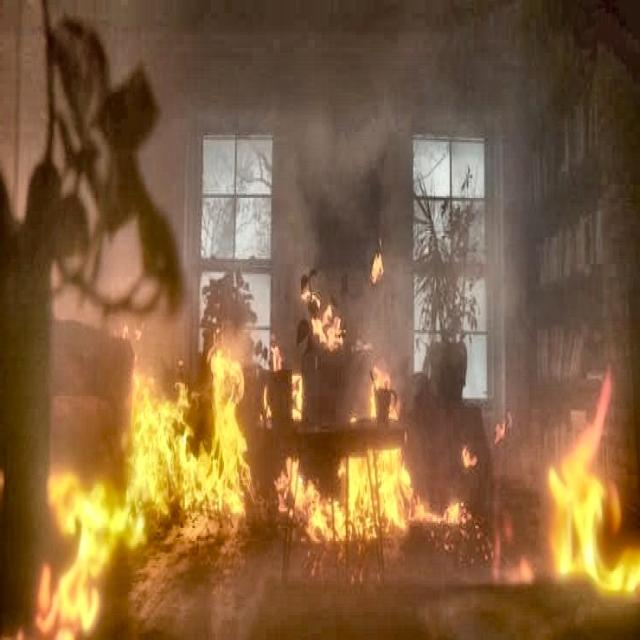fire: (27, 367, 626, 628)
